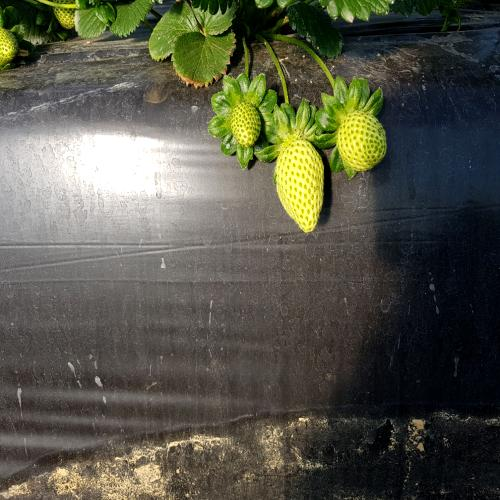unripe: (273, 142, 333, 238), (331, 100, 398, 177), (231, 99, 267, 157)
